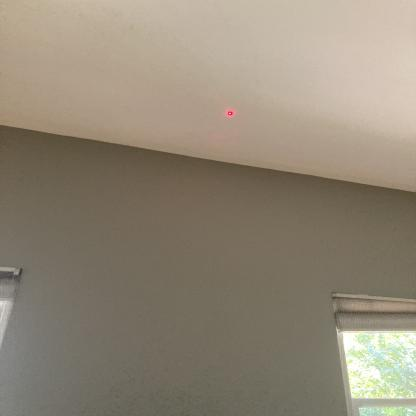target: (226, 108, 236, 119)
